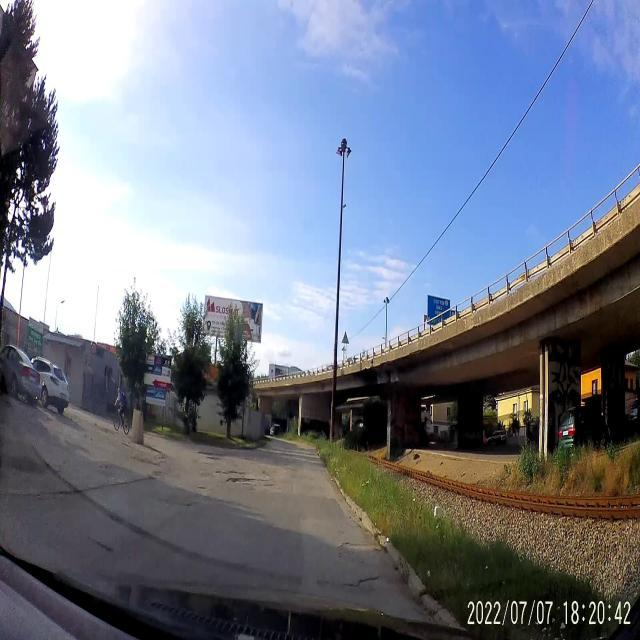Pothole: (334, 536, 381, 561), (346, 568, 386, 596), (225, 473, 253, 491)
